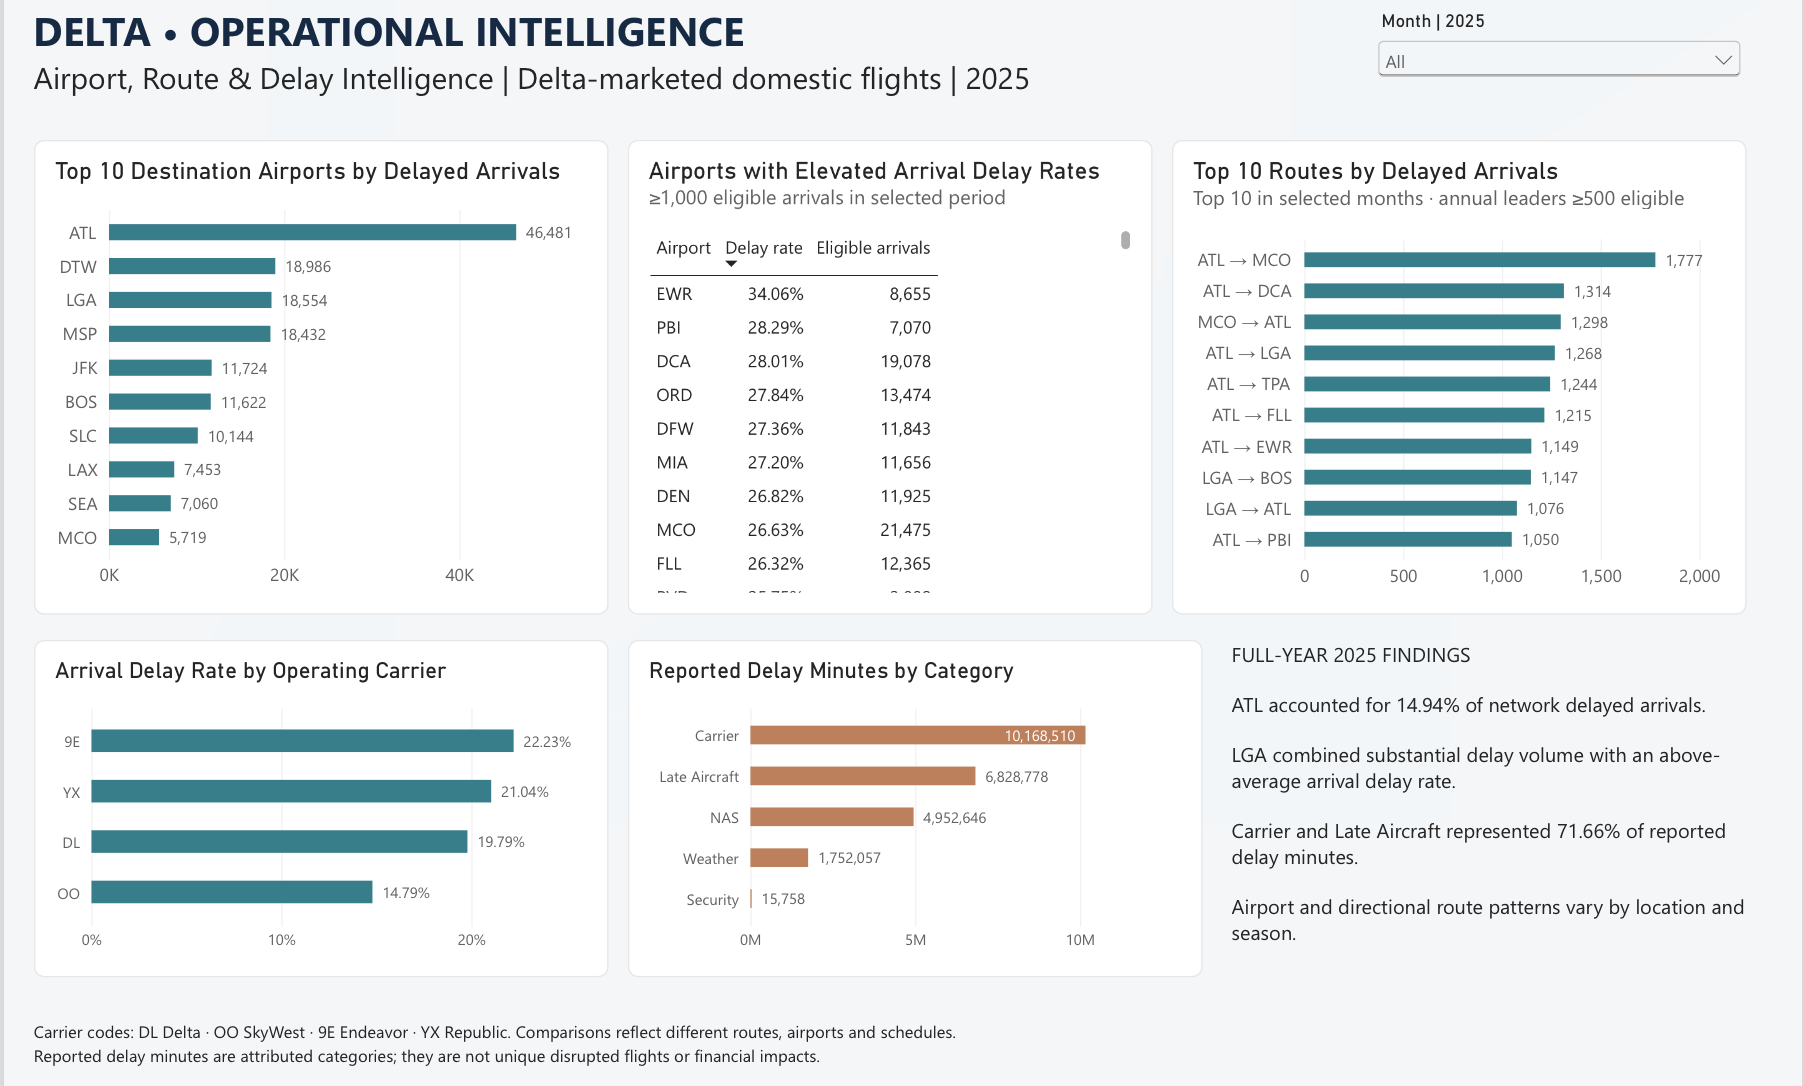

Layout of this report page (visuals, bound fields, positions):
{"tool":"powerbi","page":{"name":"02 — Operational Intelligence","canvas":[1440,900],"ordinal":1},"visuals":[{"type":"clusteredBarChart","title":"Top 10 Destination Airports by Delayed Arrivals","fields":{"Category":["tblAirportMonthlyOperations.airport_code"],"Y":["tblAirportMonthlyOperations.Airport Delayed Arrivals"]},"box":[24,130,460,380],"z":0},{"type":"tableEx","title":"Airports with Elevated Arrival Delay Rates","fields":{"Values":["tblAirportMonthlyOperations.airport_code","tblAirportMonthlyOperations.Airport Delay Rate %","tblAirportMonthlyOperations.Airport Eligible Arrivals"]},"box":[500,130,420,380],"z":1000},{"type":"clusteredBarChart","title":"Top 10 Routes by Delayed Arrivals","fields":{"Category":["tblRouteMonthlyOperations.route"],"Y":["tblRouteMonthlyOperations.Route Delayed Arrivals"]},"box":[936,130,460,380],"z":2000},{"type":"clusteredBarChart","title":"Arrival Delay Rate by Operating Carrier","fields":{"Category":["tblCarrierMonthlyOperations.operating_carrier"],"Y":["tblCarrierMonthlyOperations.Carrier Delay Rate %"]},"box":[24,530,460,270],"z":3000},{"type":"clusteredBarChart","title":"Reported Delay Minutes by Category","fields":{"Category":["tblMonthlyDelayCauses.delay_cause"],"Y":["tblMonthlyDelayCauses.Total Attributed Delay Minutes"]},"box":[500,530,460,270],"z":4000},{"type":"textbox","box":[984,530,412,300],"z":5000},{"type":"textbox","box":[24,20,1050,95],"z":6000},{"type":"textbox","box":[24,832,1340,58],"z":7000},{"type":"slicer","fields":{"Values":["DimMonth.month_start.Variation.Date Hierarchy.Month"]},"box":[1096,28,300,75],"z":8000}]}

Visuals, with their boxes on the page's 1440x900 design canvas (x1, y1, x2, y2). These are canvas units, not pixel positions in the 1804x1086 screenshot, which may show the page scaled, cropped or inside an application window:
"Top 10 Destination Airports by Delayed Arrivals" clusteredBarChart: {"left": 24, "top": 130, "right": 484, "bottom": 510}
"Airports with Elevated Arrival Delay Rates" tableEx: {"left": 500, "top": 130, "right": 920, "bottom": 510}
"Top 10 Routes by Delayed Arrivals" clusteredBarChart: {"left": 936, "top": 130, "right": 1396, "bottom": 510}
"Arrival Delay Rate by Operating Carrier" clusteredBarChart: {"left": 24, "top": 530, "right": 484, "bottom": 800}
"Reported Delay Minutes by Category" clusteredBarChart: {"left": 500, "top": 530, "right": 960, "bottom": 800}
textbox: {"left": 984, "top": 530, "right": 1396, "bottom": 830}
textbox: {"left": 24, "top": 20, "right": 1074, "bottom": 115}
textbox: {"left": 24, "top": 832, "right": 1364, "bottom": 890}
slicer - DimMonth.month_start.Variation.Date Hierarchy.Month: {"left": 1096, "top": 28, "right": 1396, "bottom": 103}
